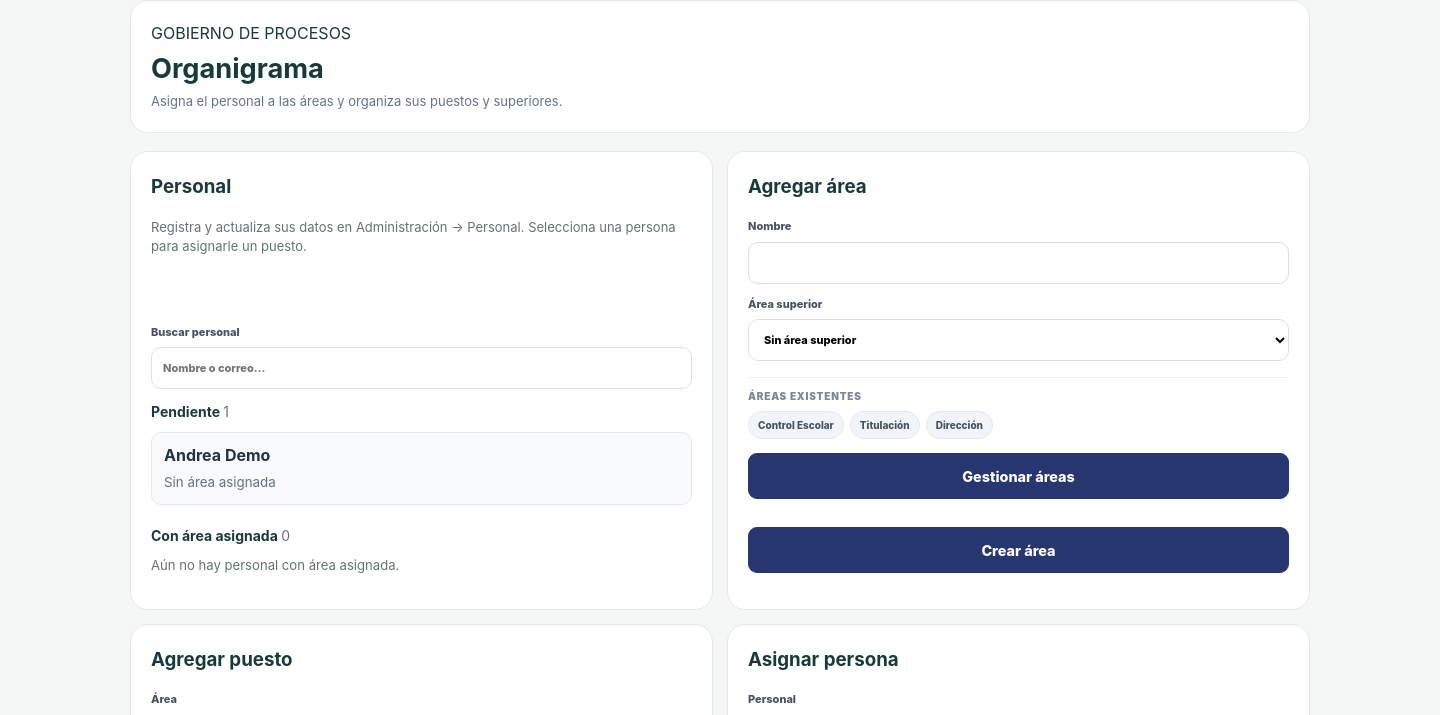
Test: Organigrama ICMSA — réplica KPIs Web › edita un área en una ventana, conserva cambios si falla y actualiza la lista al guardar
This screenshot has width=1440, height=715.
Step 1. Click the button "Gestionar áreas" → point(1018, 476), box [748,453,1289,499]
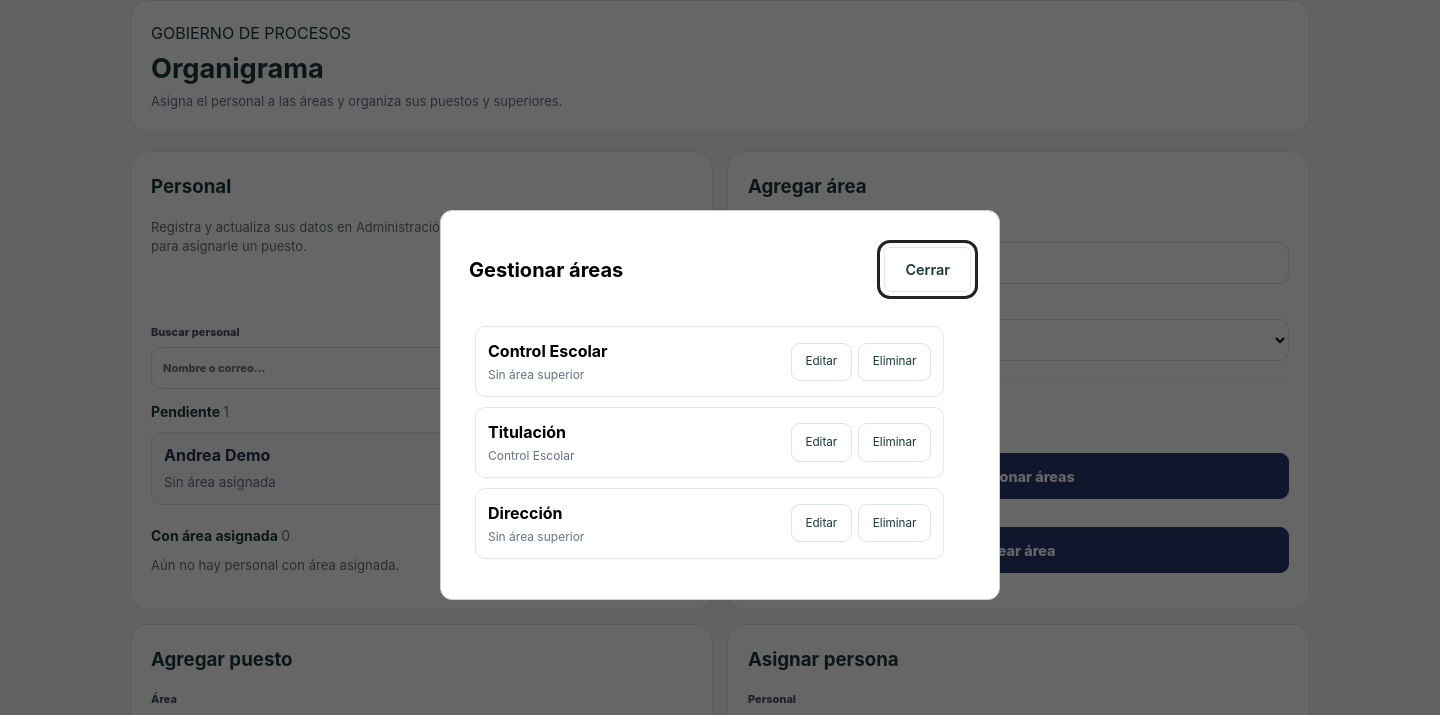
Step 2. Click the button with aria-label "Editar área Control Escolar" → point(821, 362), box [791,343,852,381]
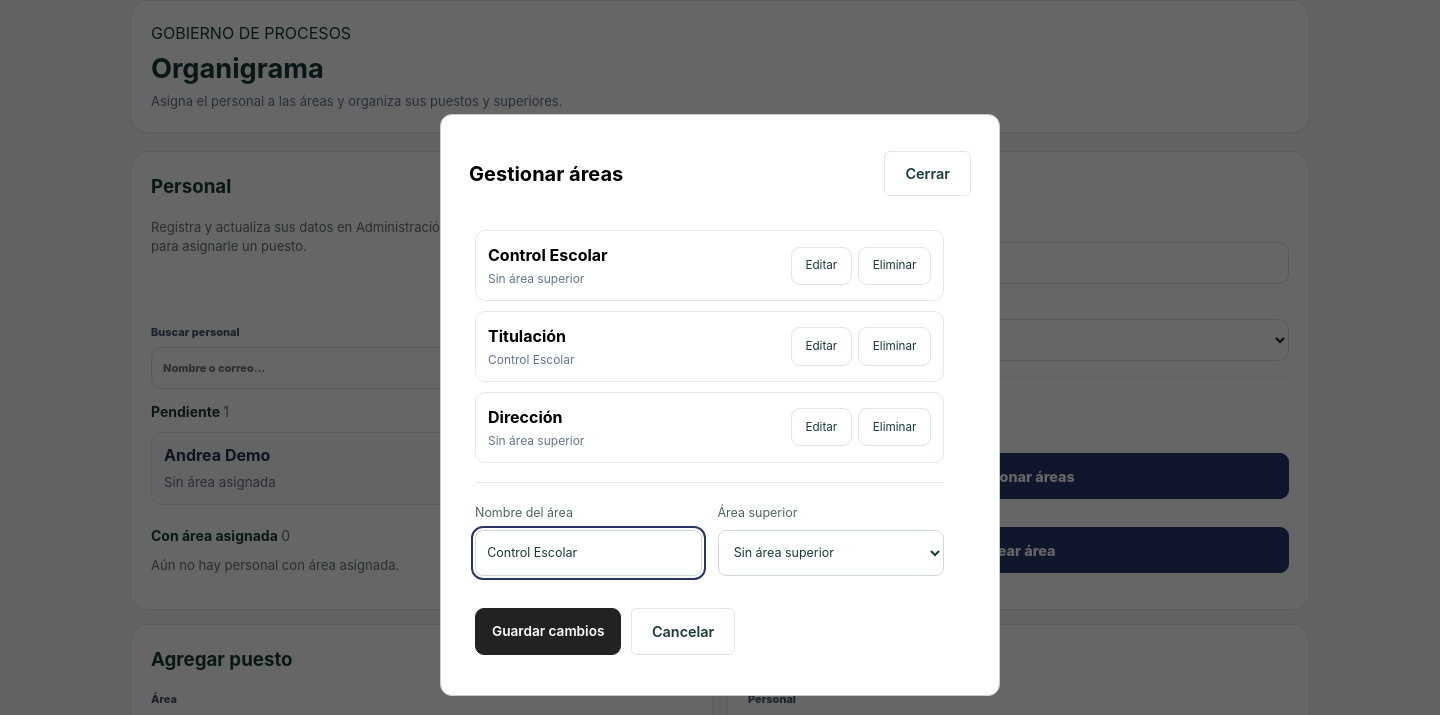
Check: the field labelled "Nombre del área" holds "Control Escolar"
Step 3. Replace the text in the field labelled "Nombre del área" with "Control Académico" → point(588, 552), box [475,530,702,576]
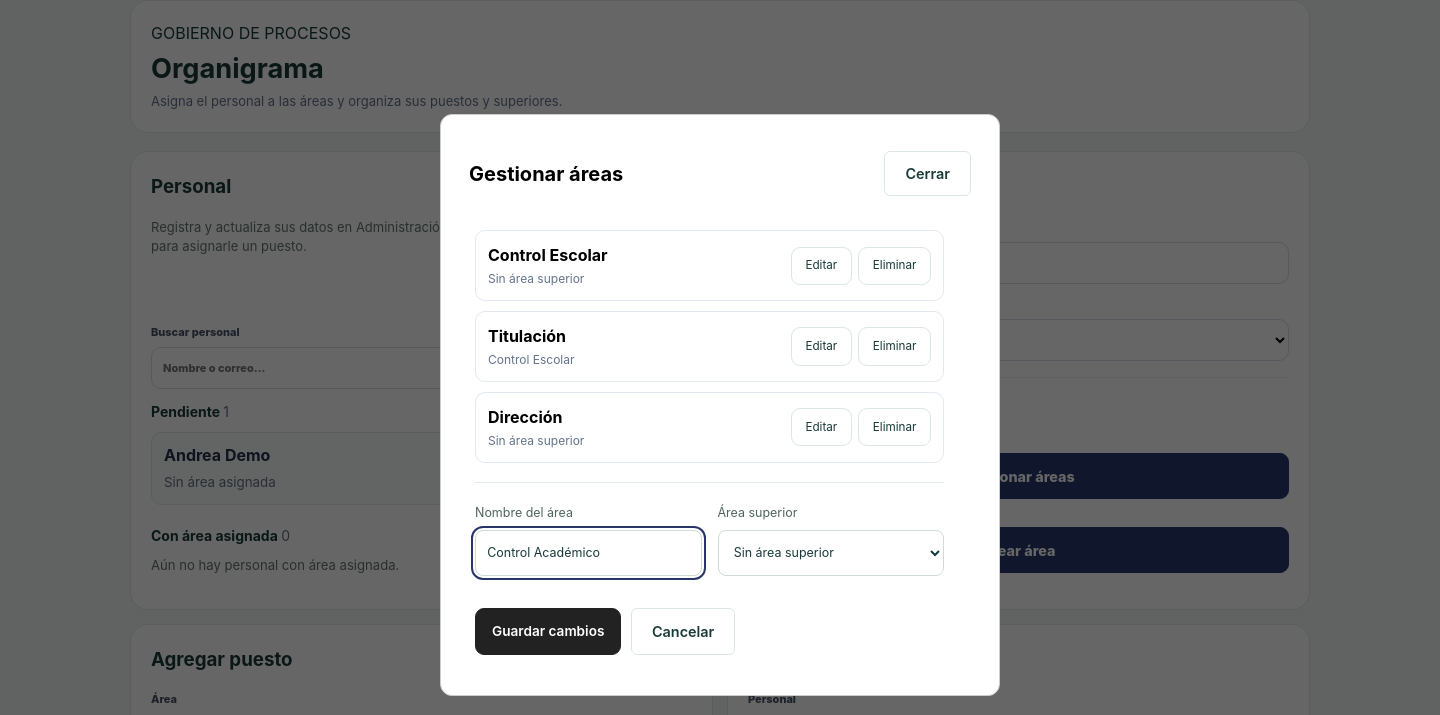
Step 4. Select "Dirección" in the dropdown labelled "Área superior" → point(831, 552), box [718,530,944,576]
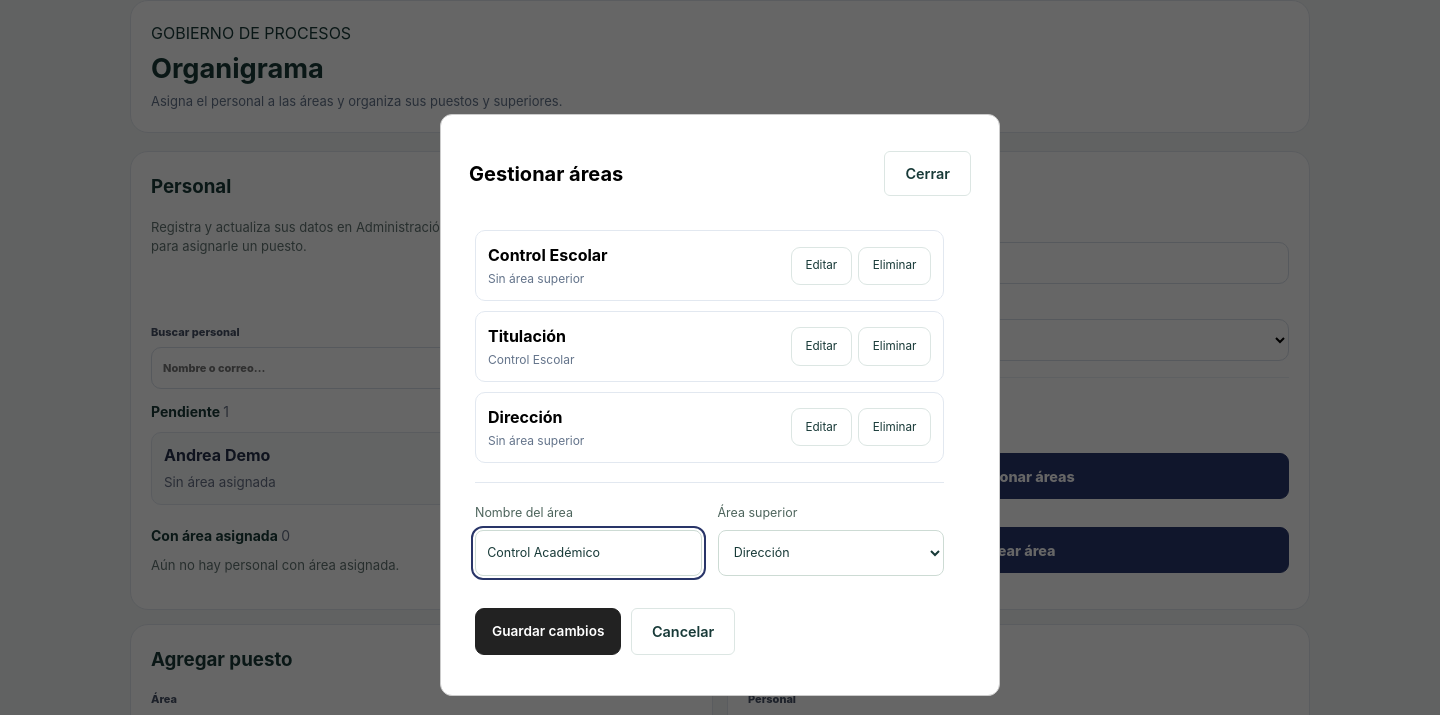
Step 5. Click the button "Guardar cambios" → point(548, 631), box [475,608,621,655]
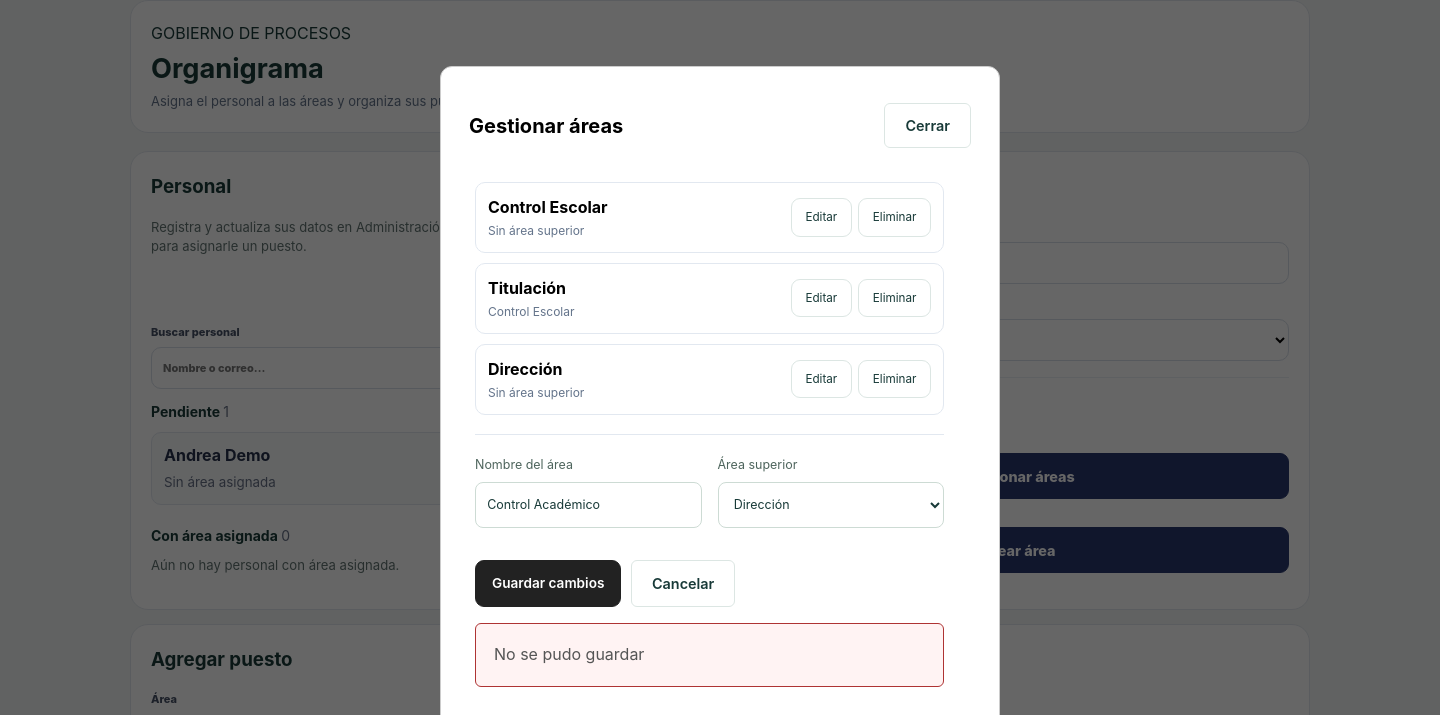
Check: the message reads "No se pudo guardar", box [494,644,644,664]
Step 6. Click the button "Guardar cambios" → point(548, 584), box [475,560,621,608]
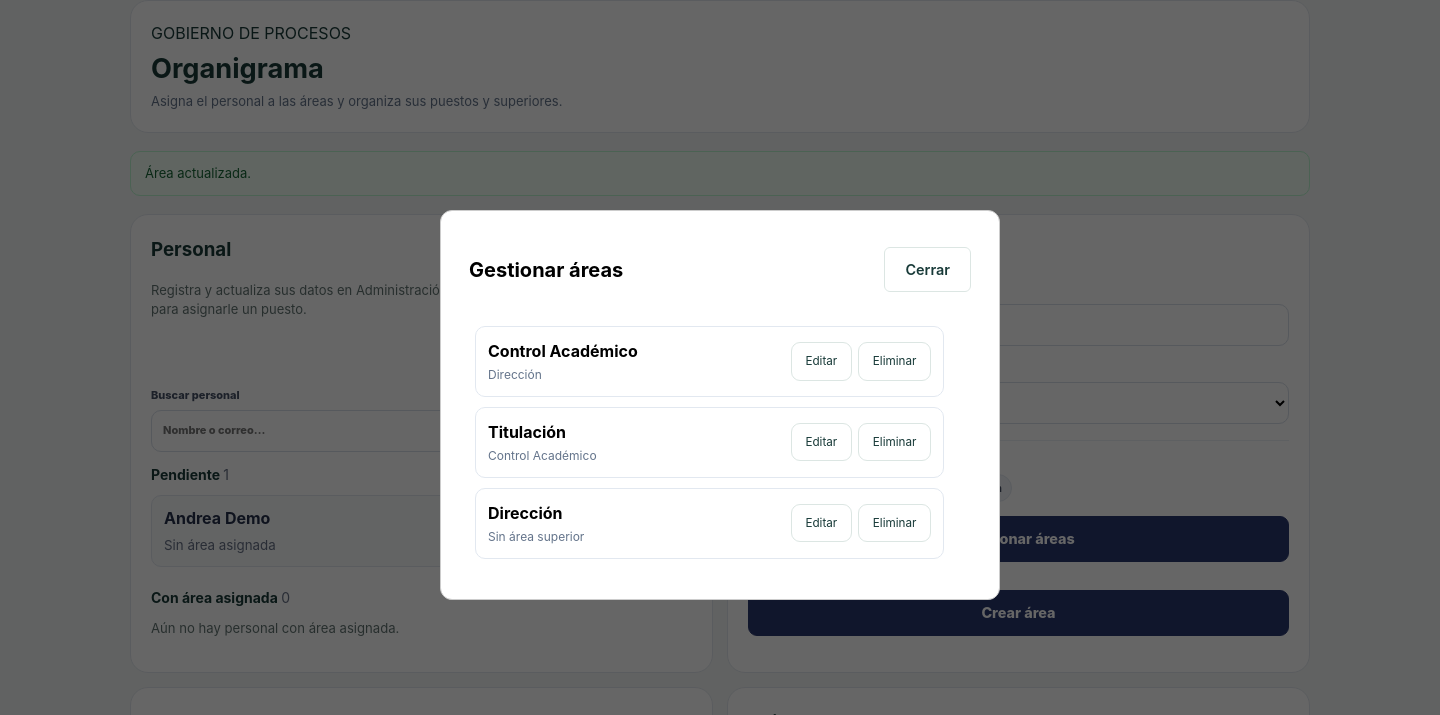
Check: the dialog "Gestionar áreas" is shown, box [440,210,1000,600]
Check: the button with aria-label "Editar área Control Académico" is shown, box [791,343,852,381]
Check: the text labelled "Nombre del área" is gone
